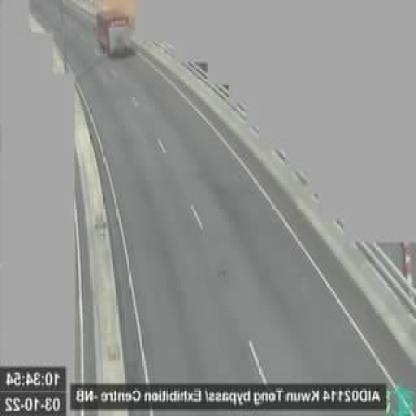Truck: (98, 12, 132, 52)
